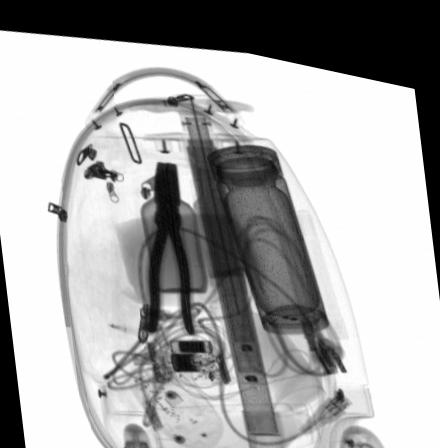Pliers: (146, 154, 195, 328)
